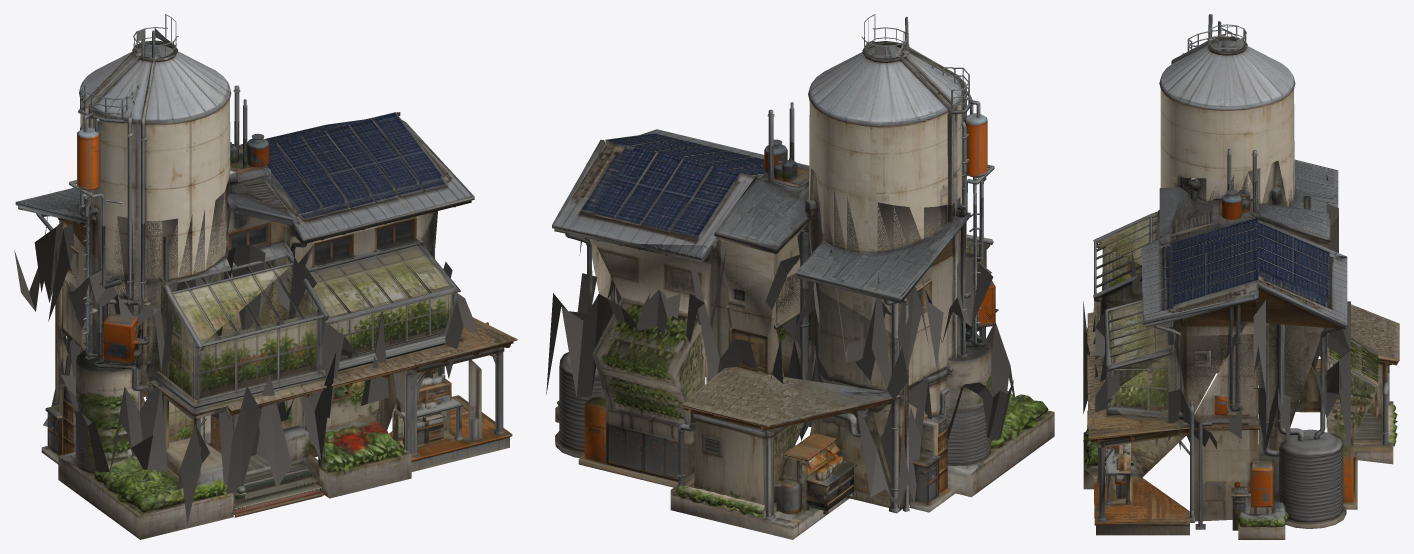
File: nha_kinh_lon.glb
3 views of the same model, side by side, from view 1: azimuth 30°, elevation 25°; view 2: azimuth 150°, elevation 25°; view 3: azimuth 270°, elevation 25° (orthographic). The views are drawn at different scales.
Parts seen in each view (by area): view 1: do_1, do_2, nguyen; view 2: do_1, do_2, nguyen; view 3: do_1, do_2, nguyen.
Boxes of the visible parts, bbox=[...] form: do_1: bbox=[41, 212, 517, 539]; do_2: bbox=[14, 112, 474, 405]; nguyen: bbox=[69, 14, 247, 368]; do_1: bbox=[546, 235, 1054, 539]; do_2: bbox=[552, 129, 995, 507]; nguyen: bbox=[767, 14, 994, 357]; do_1: bbox=[1083, 252, 1399, 539]; do_2: bbox=[1093, 157, 1347, 453]; nguyen: bbox=[1159, 14, 1295, 212].
Bounding box in the file's own units: 14.72 × 16.23 × 11.67.
2 materials, 1 textured.
